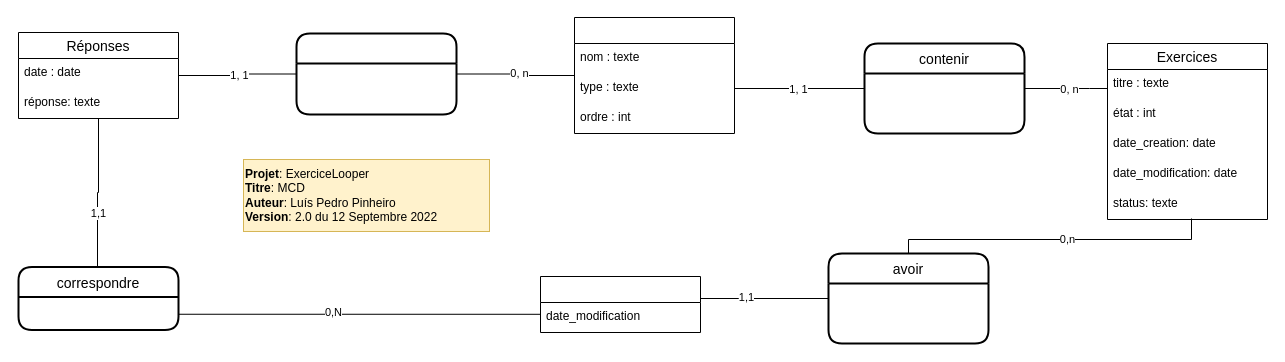
Image size: 1285x362. Some labels were removed from this diagram. Each missing label, with the box of its shape:
questionnaire: (540, 276, 700, 332)
Questions: (574, 16, 734, 134)
répondre: (295, 32, 457, 115)
